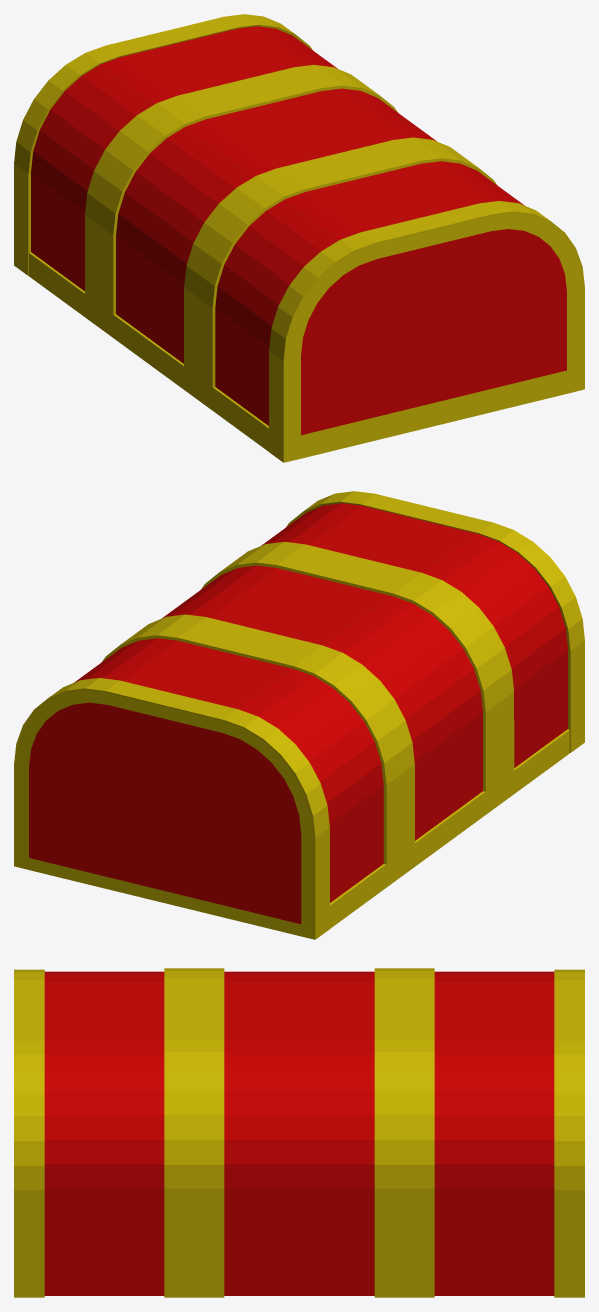
File: TreasureChestTwo.obj
3 renders of one model, top to bottom at view 1: azimuth 30°, elevation 25°; view 2: azimuth 150°, elevation 25°; view 3: azimuth 270°, elevation 25°, orthographic. The views are drawn at different scales.
Visible parts, largest first — view 1: 立方体.118; view 2: 立方体.118; view 3: 立方体.118.
Boxes of the visible parts, left/top/right/bottom form: 立方体.118: left=14, top=14, right=584, bottom=462; 立方体.118: left=14, top=491, right=584, bottom=939; 立方体.118: left=14, top=968, right=584, bottom=1297.
Bounding box in the file's own units: 1.24 × 0.7869 × 1.93.
